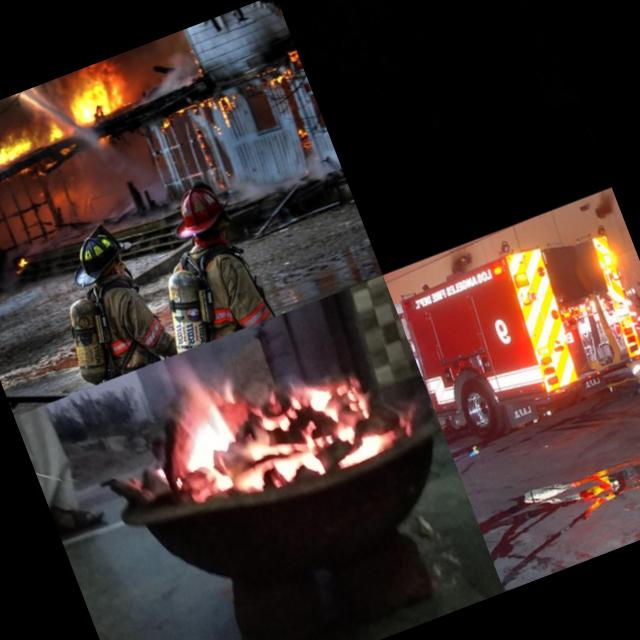fire: (129, 303, 398, 536), (537, 9, 598, 154), (0, 119, 73, 230), (52, 54, 142, 134), (152, 78, 242, 146), (258, 44, 307, 90)
smoke: (224, 120, 342, 208)
